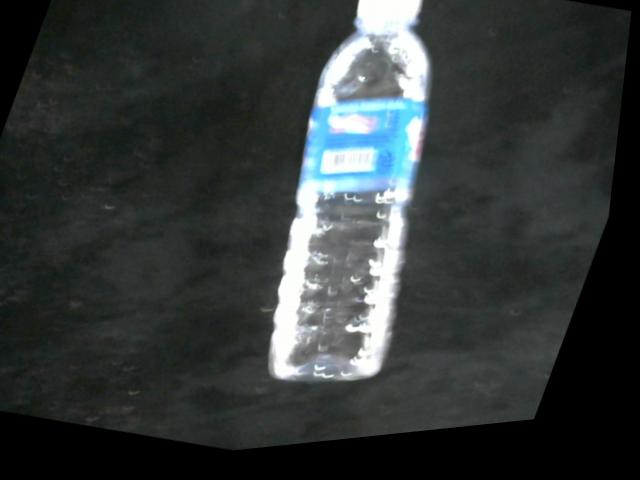bottle: (278, 0, 432, 390)
